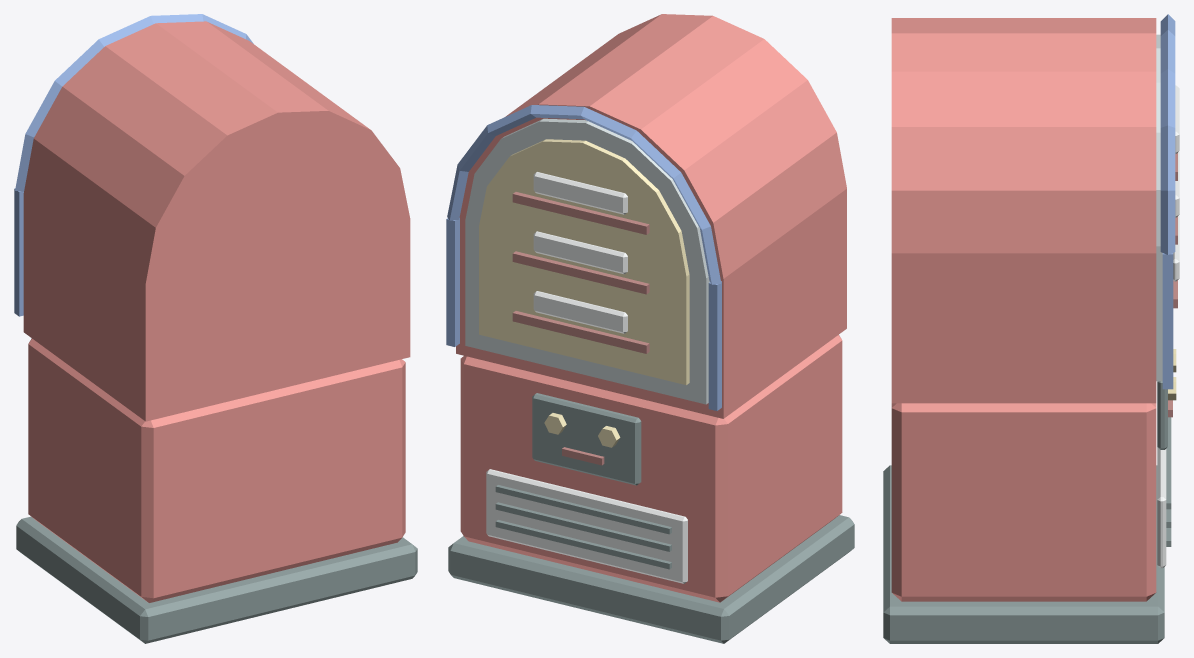
The model's file is jukebox_neon.glb.
3 views of the same model, side by side, from view 1: azimuth 30°, elevation 25°; view 2: azimuth 150°, elevation 25°; view 3: azimuth 270°, elevation 25° (orthographic). The views are drawn at different scales.
Parts seen in each view (by area): view 1: NeonJukebox; view 2: NeonJukebox; view 3: NeonJukebox.
Part boxes in pixels (x1,y1,x2,y2): NeonJukebox: (14,14,417,643); NeonJukebox: (446,14,854,643); NeonJukebox: (883,14,1179,643).
Size of the model in its own units: 0.3818 by 0.6591 by 0.3255.
